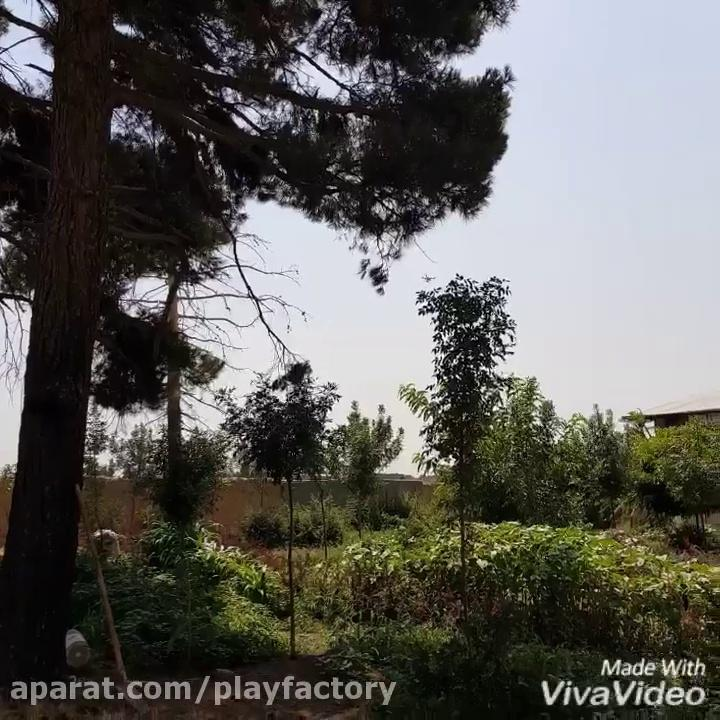drone: (416, 266, 439, 288)
